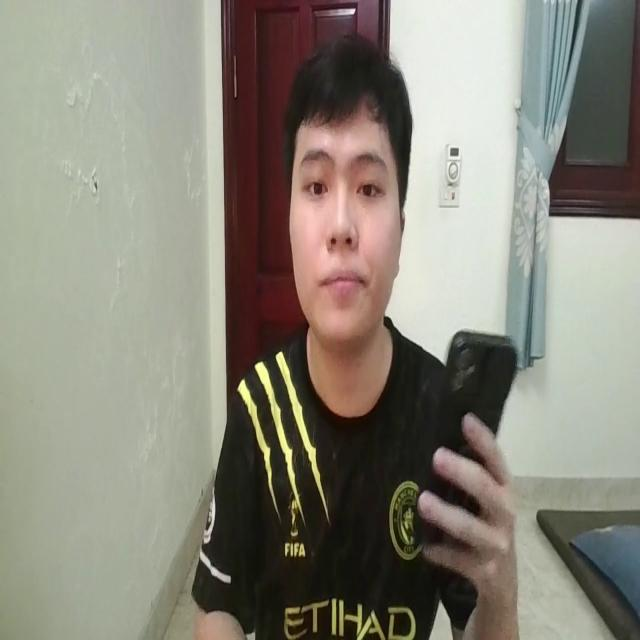phone: (418, 316, 518, 560)
student: (182, 26, 521, 640)
